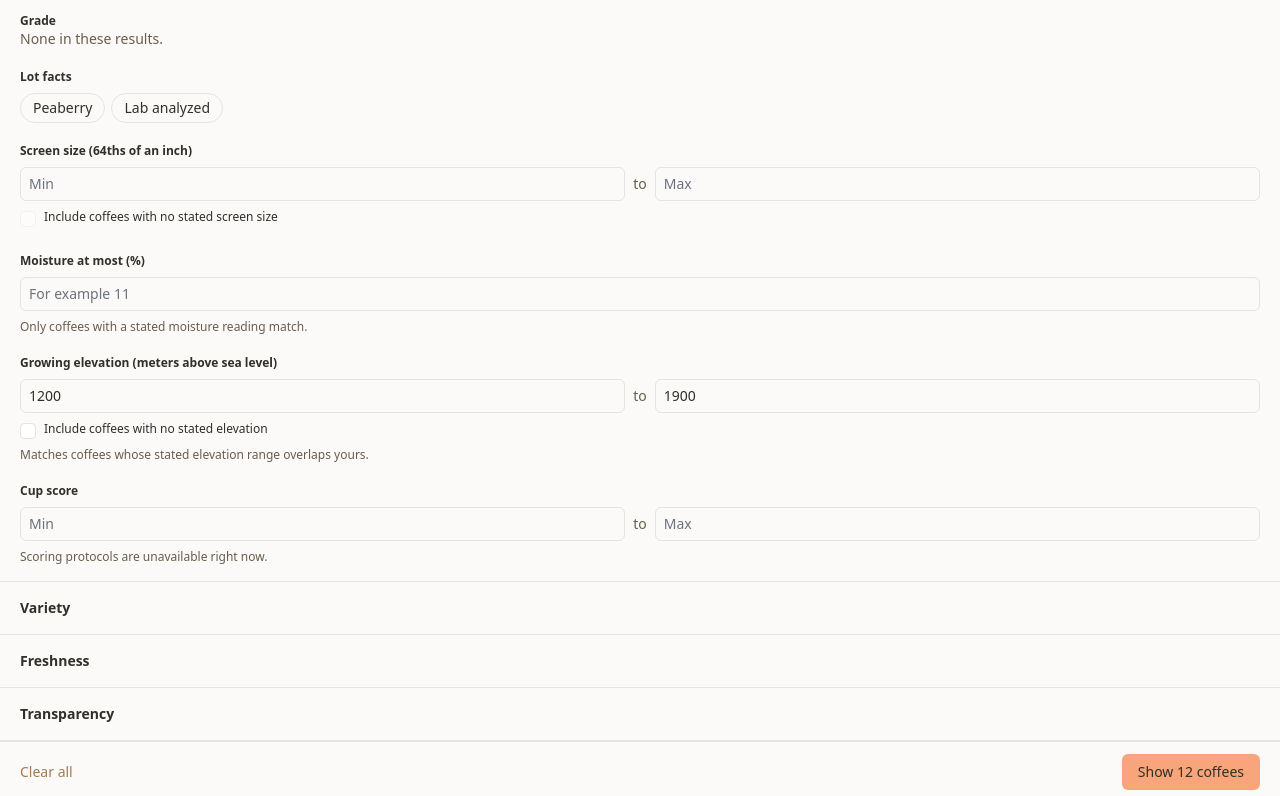
Test case: CatalogFilterPanel › clears an elevation range that was edited into inverted bounds
(page scrolled)
Replace the text in the 1st number field named "Lowest elevation" with "2500": (323, 396) [20,379,625,413]
(page scrolled)
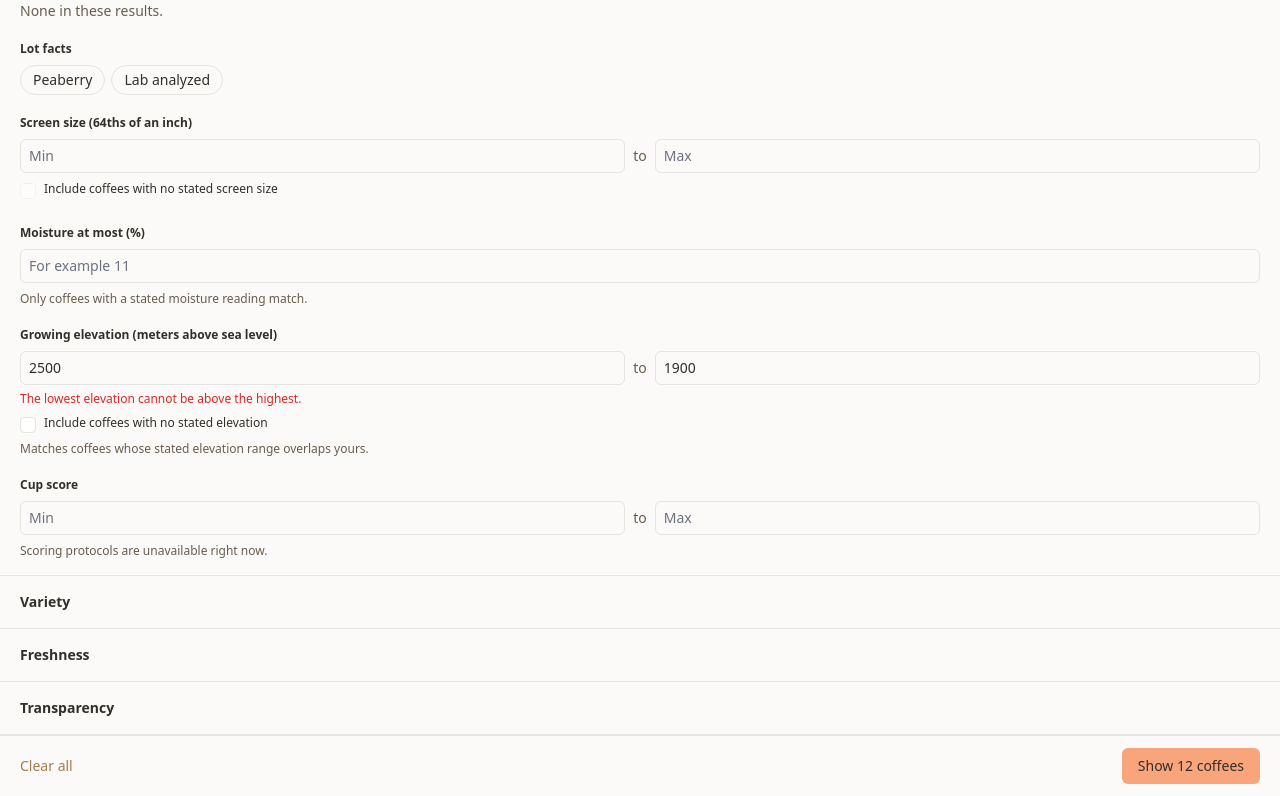
Now the message reads "The lowest elevation cannot be above the highest.", box [20,390,301,407]
Click the button "Clear all": (46, 766) [20,756,73,776]
(page scrolled)
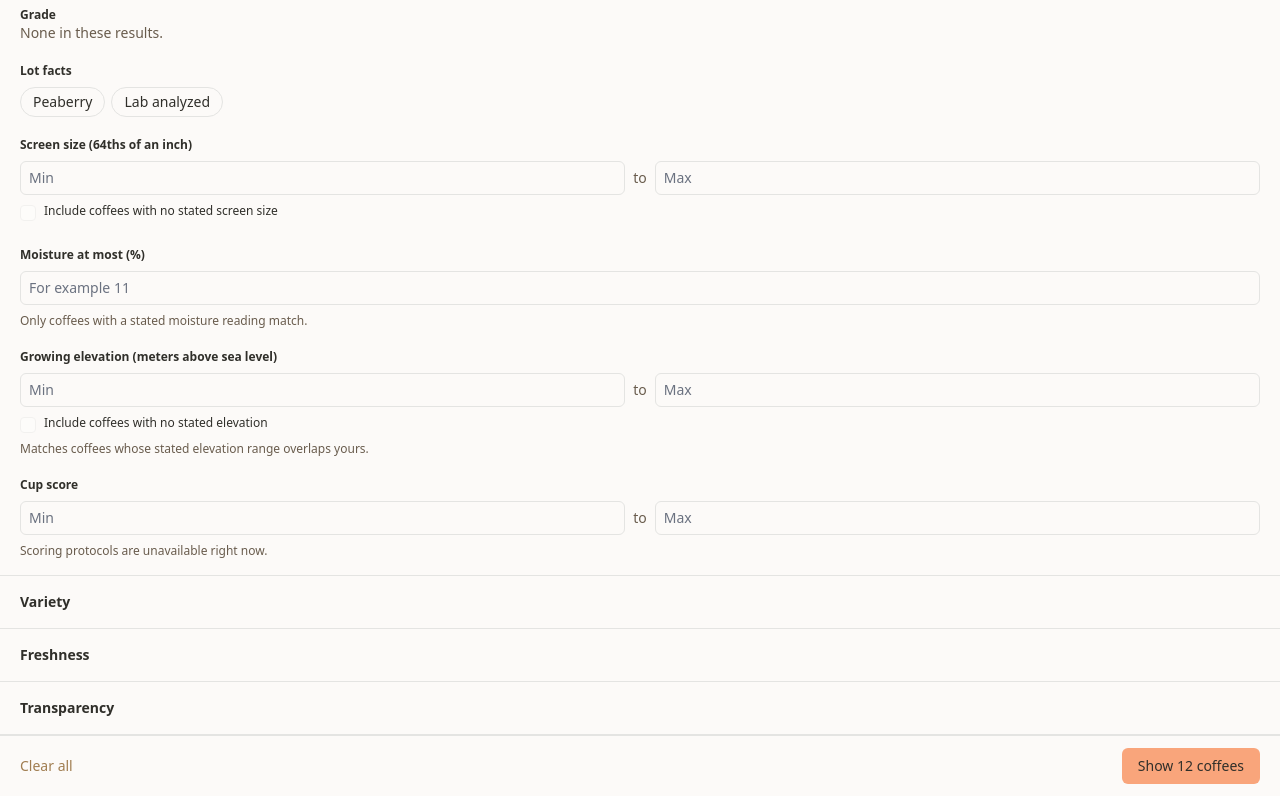
Now the message "The lowest elevation cannot be above the highest." is gone
Now the number field named "Lowest elevation" is empty, box [20,373,625,407]
Now the number field named "Highest elevation" is empty, box [655,373,1260,407]
